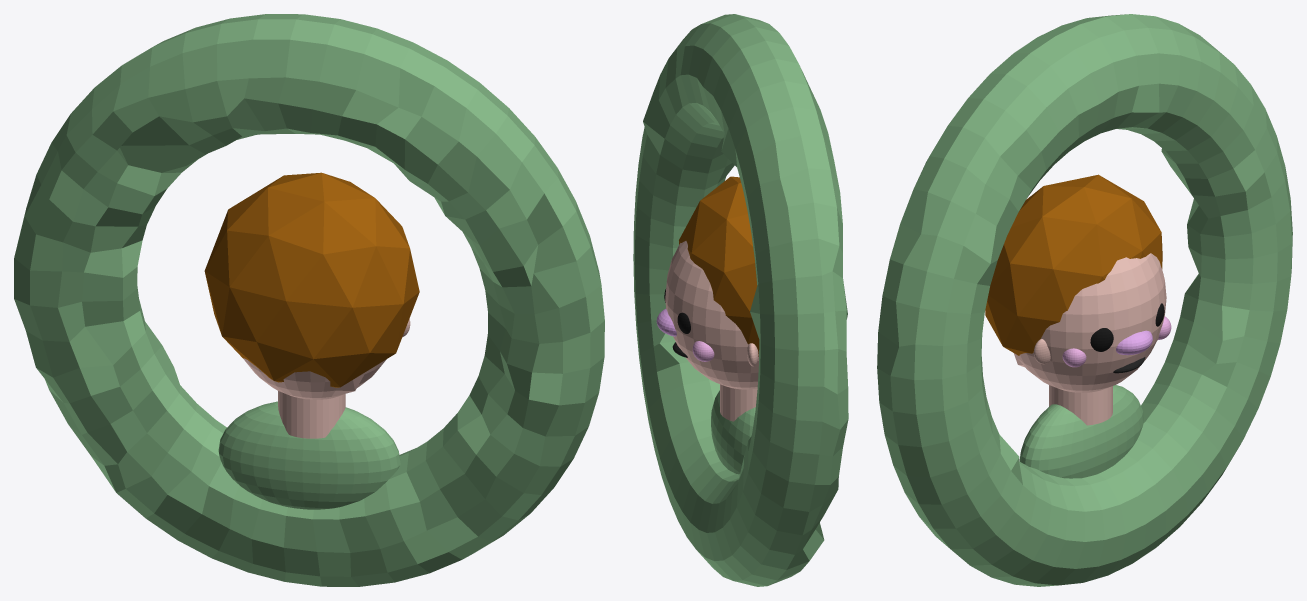
The model's file is padre 1.fbx.
3 views of the same model, side by side, from view 1: azimuth 30°, elevation 25°; view 2: azimuth 150°, elevation 25°; view 3: azimuth 270°, elevation 25° (orthographic). The views are drawn at different scales.
Parts seen in each view (by area): view 1: Rosca.001, Esfera geodésica, Esfera.004, Cilindro, Esfera; view 2: Rosca.001, Esfera geodésica, Esfera, Esfera.004, Cilindro, Esfera.011, Esfera.001; view 3: Rosca.001, Esfera geodésica, Esfera, Esfera.004, Cilindro, Esfera.001.
Boxes of the visible parts, box(x1,y1,x2,y2) form: Rosca.001: box(14, 14, 604, 586); Esfera geodésica: box(204, 172, 419, 387); Esfera.004: box(218, 401, 400, 509); Cilindro: box(278, 391, 345, 438); Esfera: box(243, 358, 386, 399); Rosca.001: box(633, 14, 848, 586); Esfera geodésica: box(679, 176, 759, 356); Esfera: box(665, 241, 758, 389); Esfera.004: box(711, 390, 755, 474); Cilindro: box(720, 384, 757, 421); Esfera.011: box(692, 341, 714, 361); Esfera.001: box(656, 308, 676, 336); Rosca.001: box(877, 14, 1292, 586); Esfera geodésica: box(985, 174, 1162, 355); Esfera: box(1014, 253, 1166, 392); Esfera.004: box(1019, 385, 1143, 478); Cilindro: box(1049, 385, 1112, 425); Esfera.001: box(1116, 330, 1152, 355).
Size of the model in its own units: 602 by 824 by 580.
